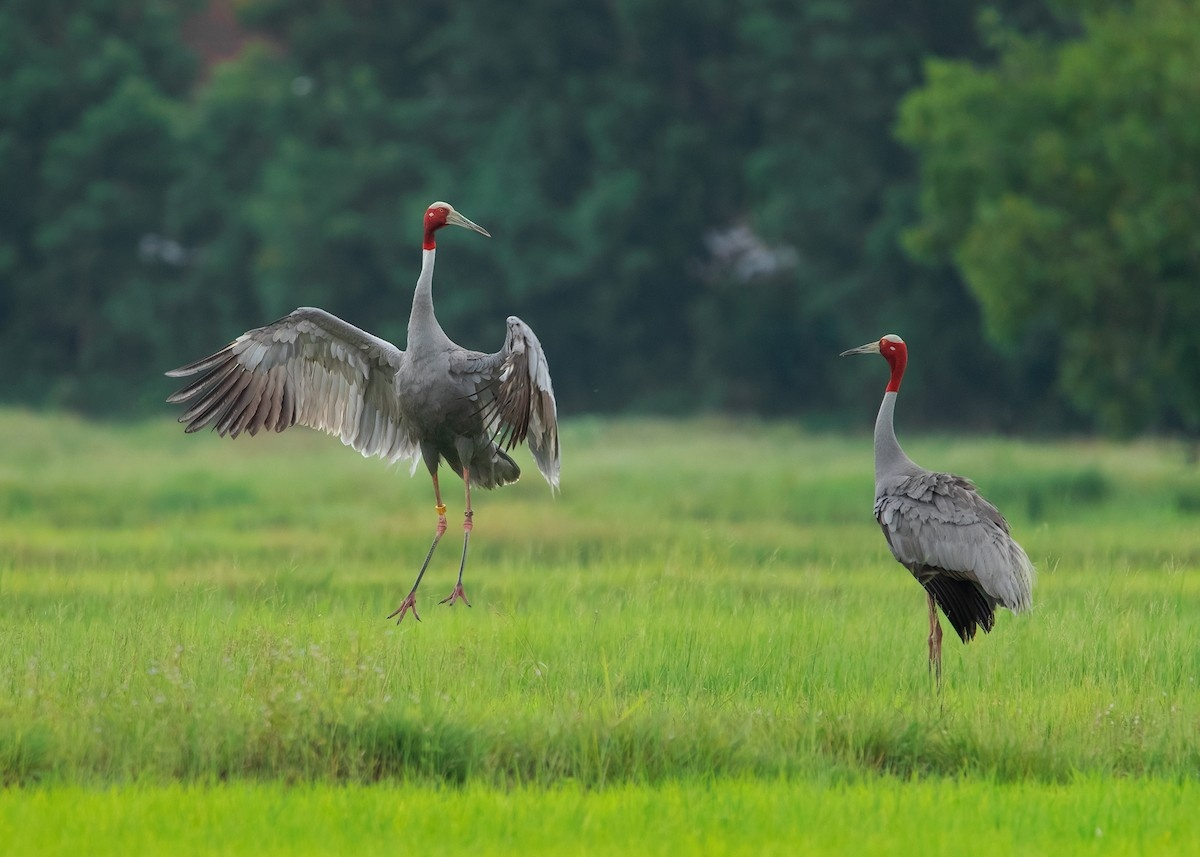crane: (159, 191, 585, 631), (832, 320, 1044, 690)
